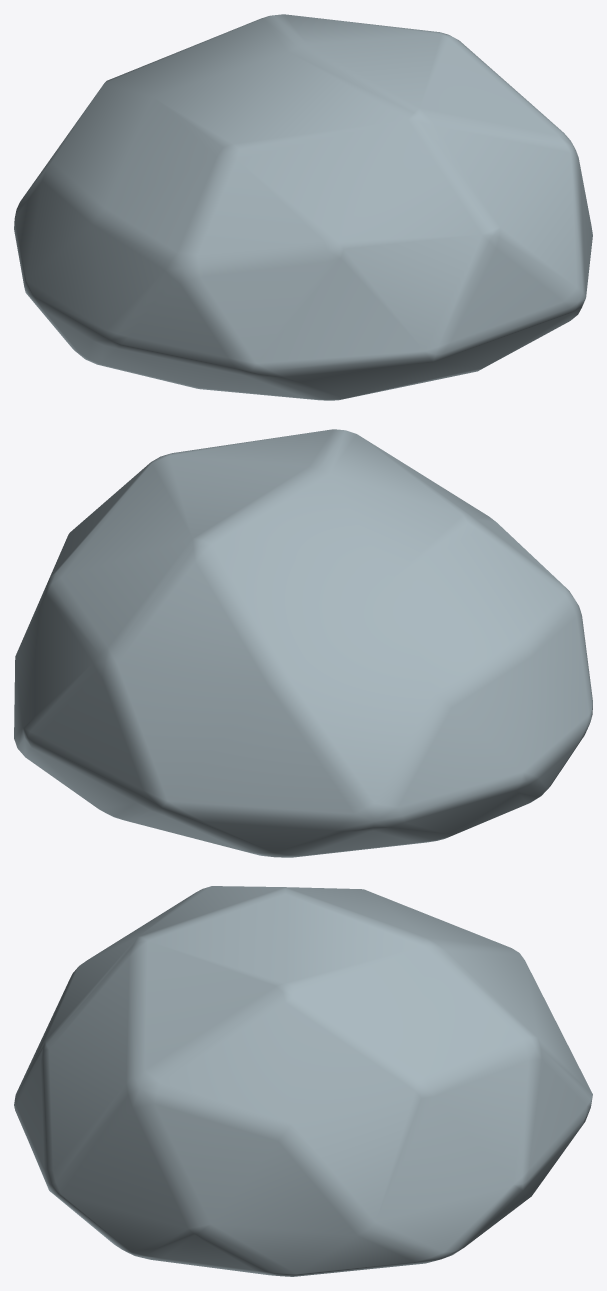
File: boulder_small.glb
3 renders of one model, top to bottom at view 1: azimuth 30°, elevation 25°; view 2: azimuth 150°, elevation 25°; view 3: azimuth 270°, elevation 25°, orthographic. The views are drawn at different scales.
Parts seen in each view (by area): view 1: Surface_Rock; view 2: Surface_Rock; view 3: Surface_Rock.
Part boxes in pixels (left/top/right/bottom): Surface_Rock: left=14, top=14, right=592, bottom=400; Surface_Rock: left=14, top=429, right=592, bottom=857; Surface_Rock: left=14, top=886, right=592, bottom=1276.
Size of the model in its own units: 1.98 by 1.03 by 2.01.
